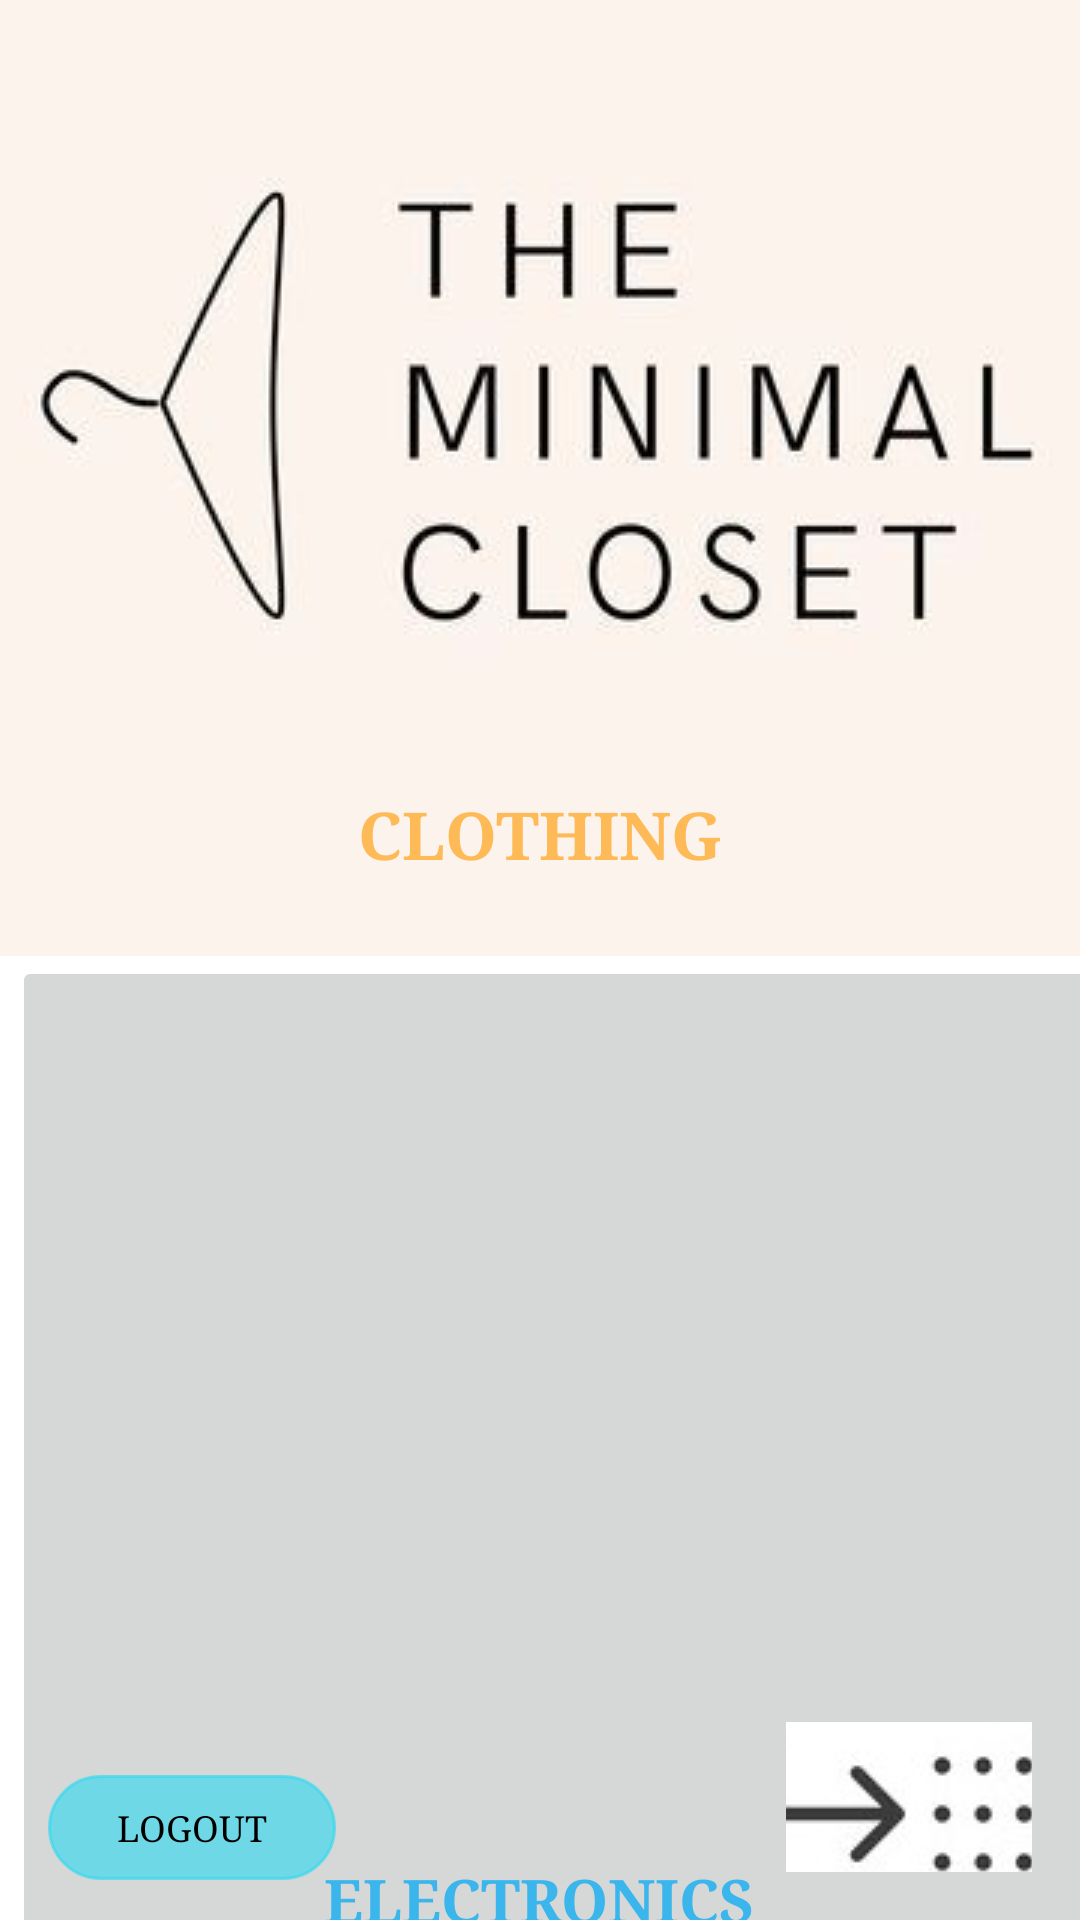

Point at icon controls on the screen. Image size 1080 × 1920, points as (x=x, y=y).
next: (x=909, y=1797)
